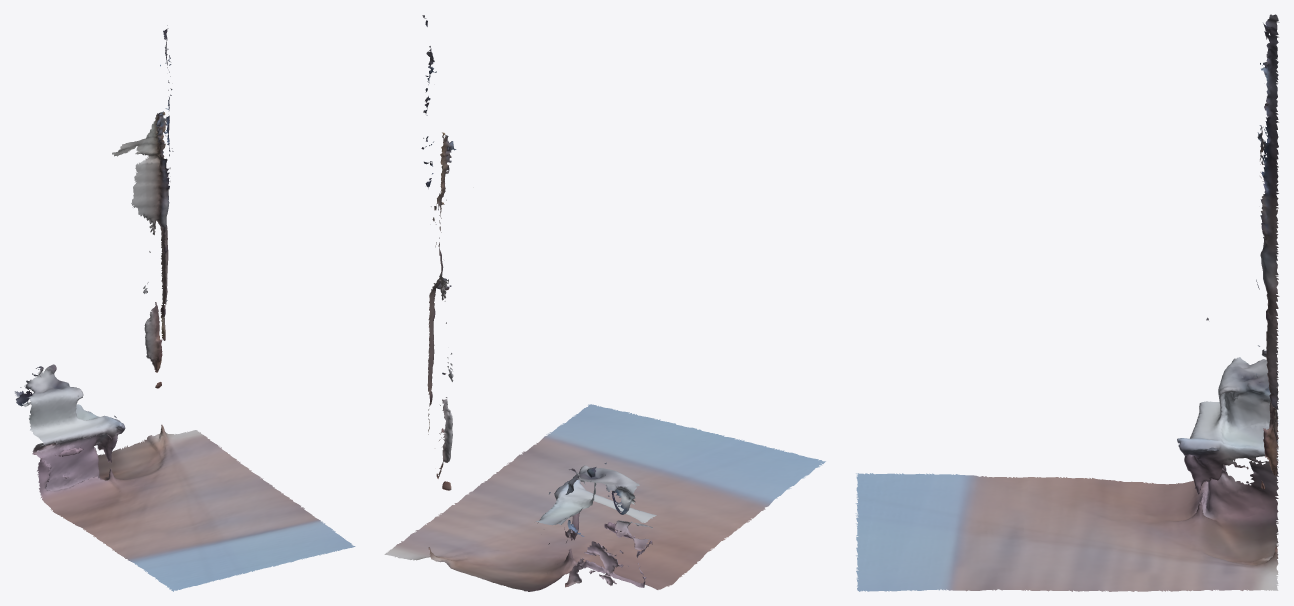
The model's file is apartment-full-50-49ca5b7dff25.glb.
3 renders of one model, left to right at view 1: azimuth 30°, elevation 25°; view 2: azimuth 150°, elevation 25°; view 3: azimuth 270°, elevation 25°, orthographic. The views are drawn at different scales.
Bounding box in the file's own units: 0.869 × 1.95 × 1.31.
